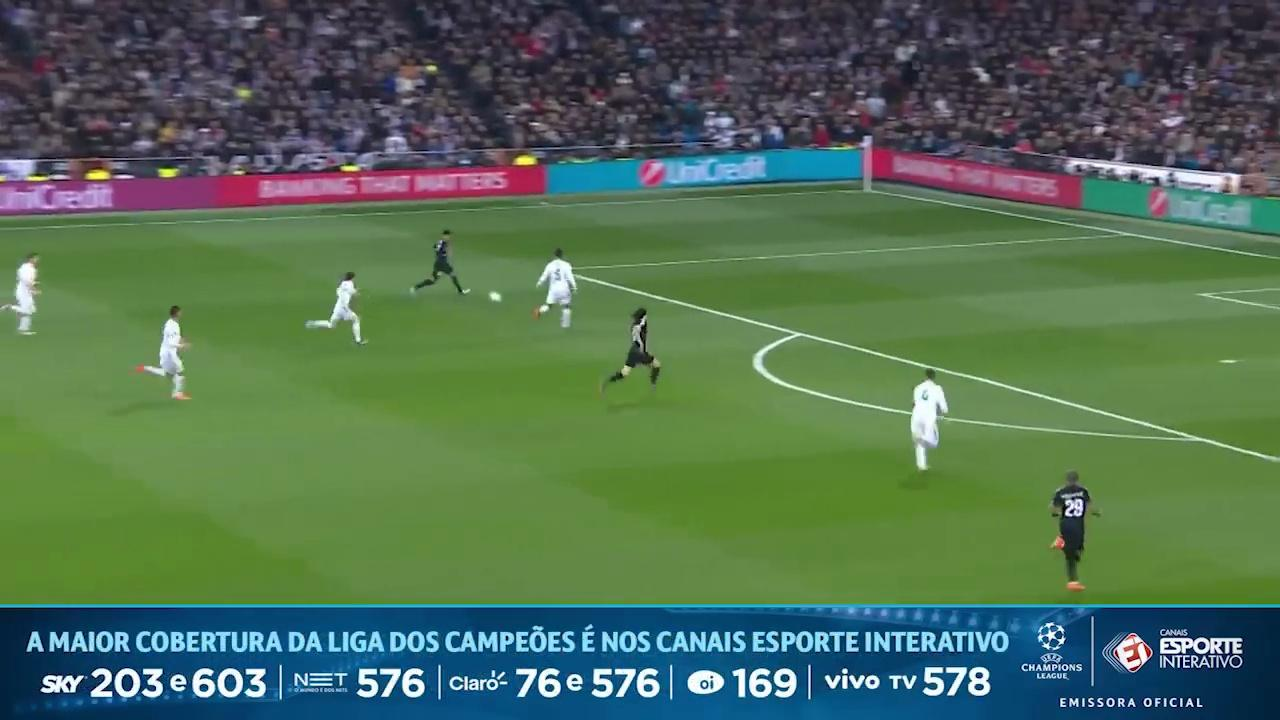football: (488, 291, 501, 301)
player: (1050, 471, 1099, 591), (136, 305, 189, 399), (601, 308, 660, 391), (305, 272, 364, 345), (910, 369, 949, 471), (410, 229, 468, 294), (533, 249, 576, 327), (0, 253, 39, 334)
